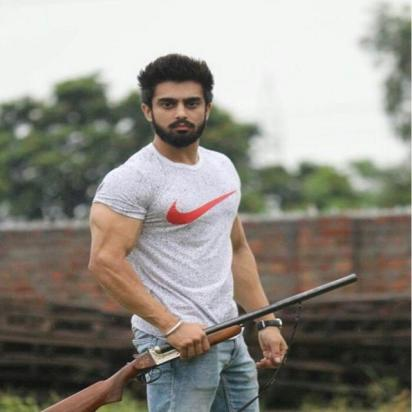Gun: (40, 270, 361, 412)
